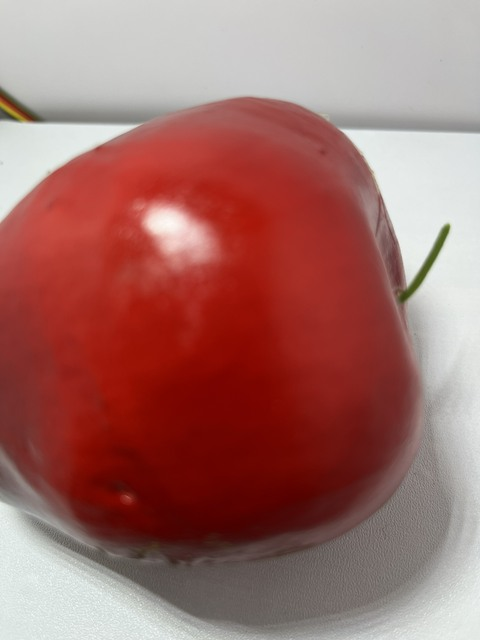Tao: (0, 89, 435, 577)
